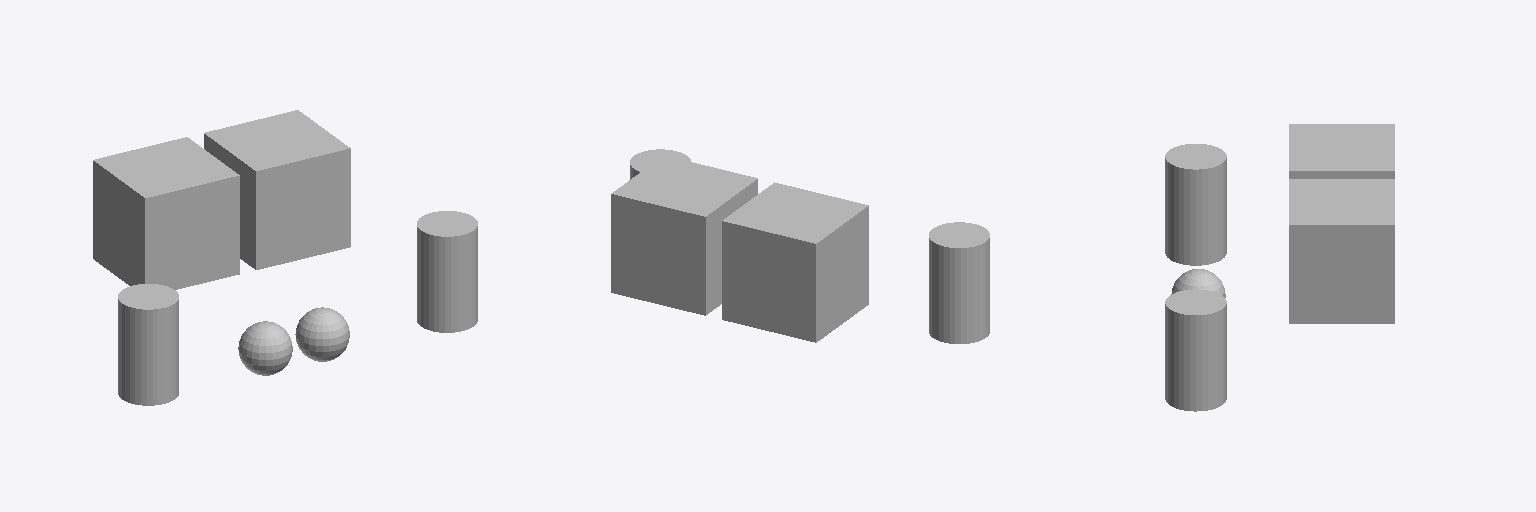
Rendered from PBRTest.obj.
3 renders of one model, left to right at view 1: azimuth 30°, elevation 25°; view 2: azimuth 150°, elevation 25°; view 3: azimuth 270°, elevation 25°, orthographic.
Visible parts, largest first — view 1: PBRTest; view 2: PBRTest; view 3: PBRTest.
Boxes of the visible parts, x1=… form: PBRTest: x1=93, y1=110, x2=477, y2=405; PBRTest: x1=611, y1=149, x2=989, y2=343; PBRTest: x1=1165, y1=124, x2=1394, y2=411.
Bounding box in the file's own units: 1.74 × 0.753 × 0.981.